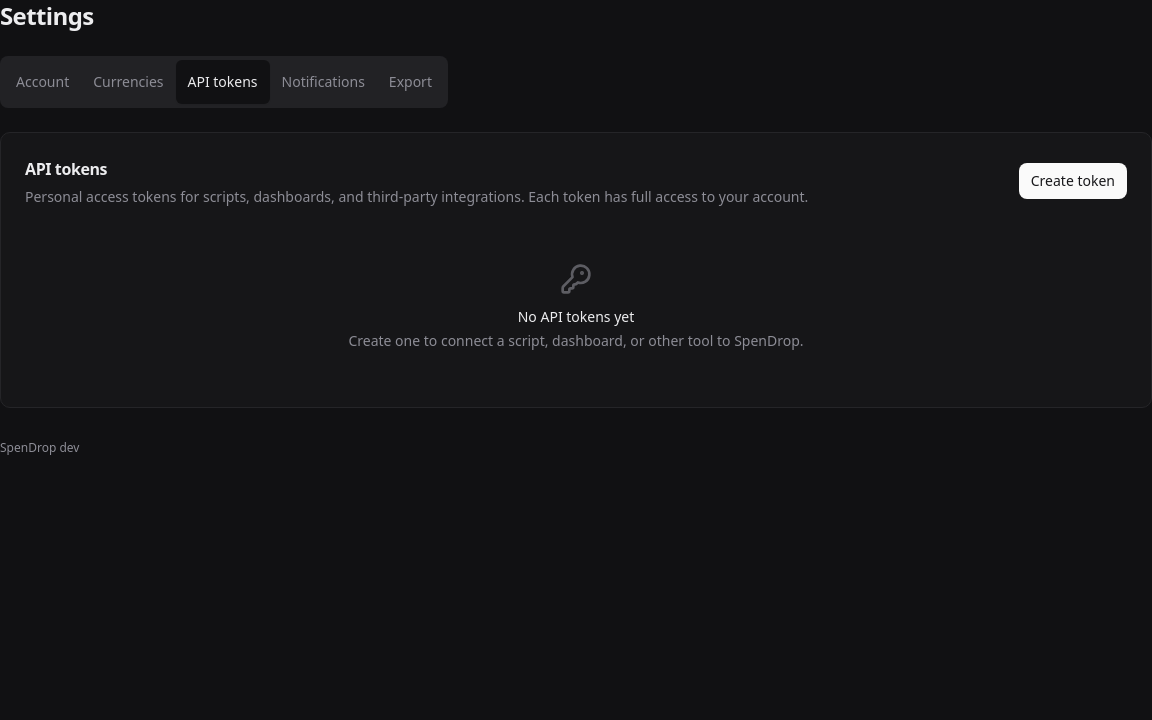
ApiTokensSection › clicking Create token opens the create dialog
The width and height of the screenshot is (1152, 720).
Expected: the text "No API tokens yet" is shown, x1=518 y1=307 x2=634 y2=326
Click the button "Create token" at point(1073, 181), box x1=1019 y1=163 x2=1127 y2=199
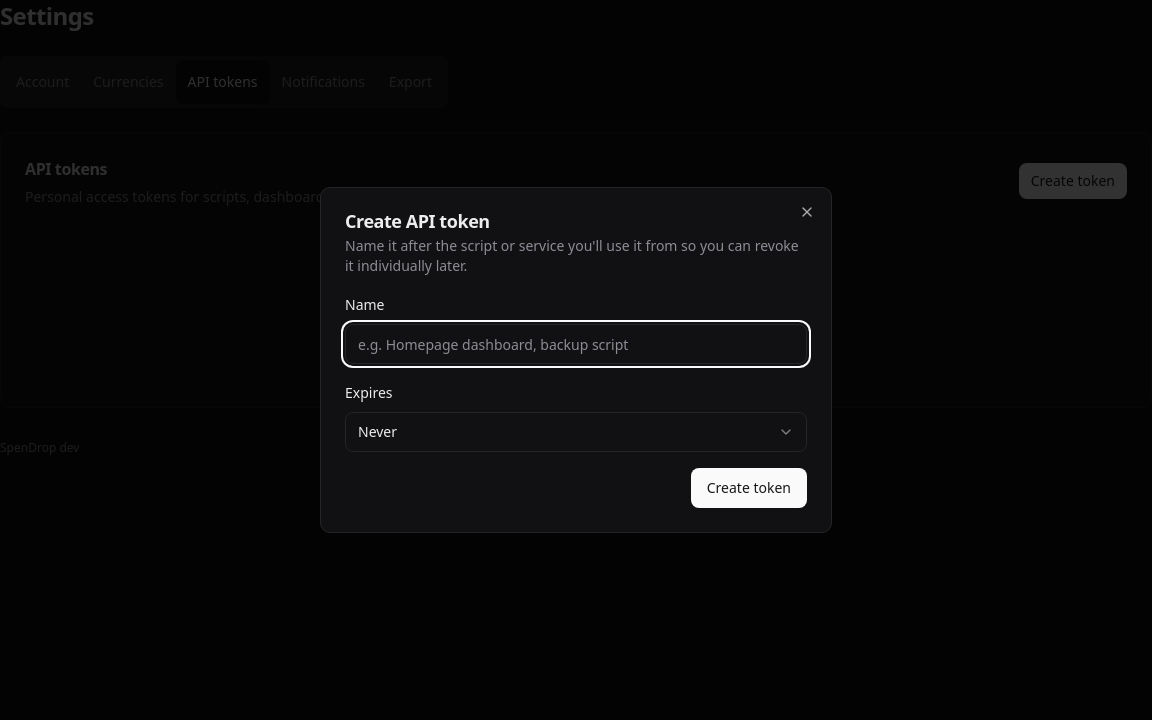
Now the heading "Create API token" is shown, box x1=345 y1=209 x2=490 y2=233
Now the field labelled "Name" is shown, box x1=345 y1=324 x2=807 y2=364
